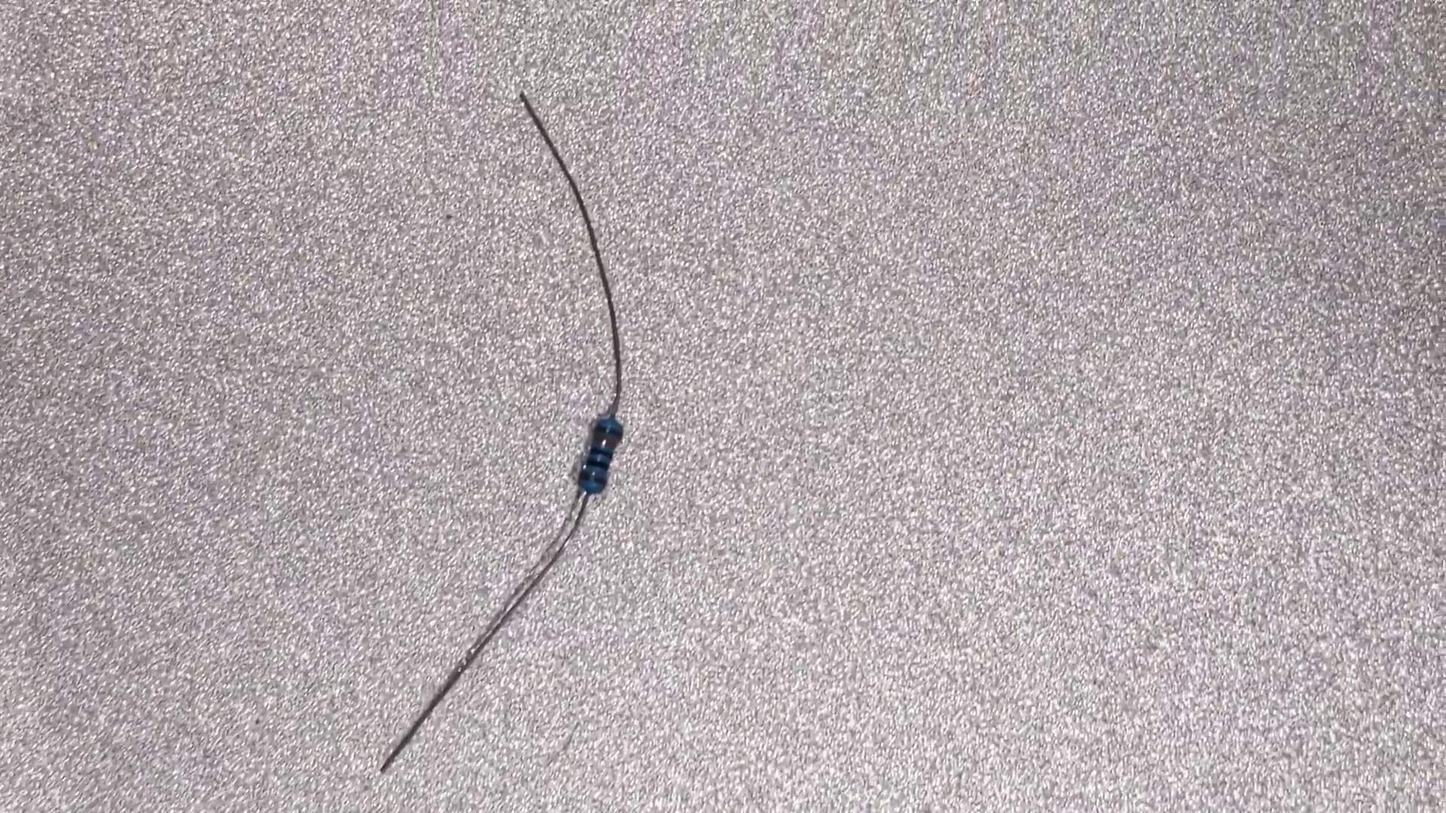resistor: (574, 414, 623, 497)
